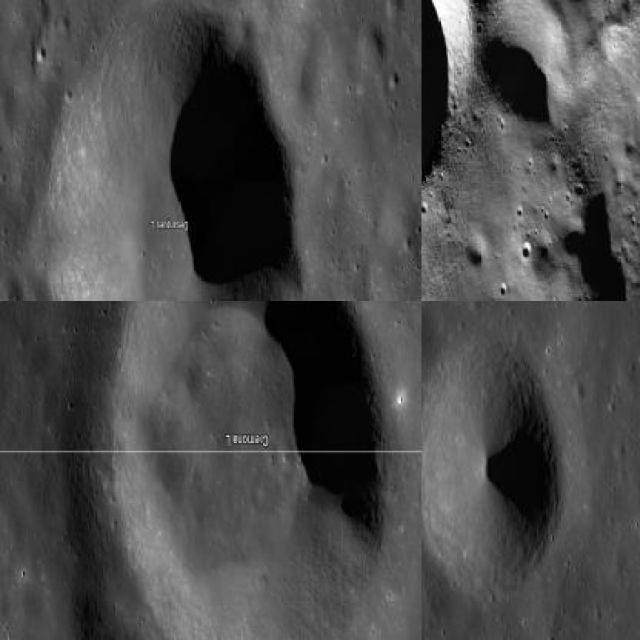crater: (100, 300, 385, 638), (43, 0, 300, 298), (422, 337, 562, 597), (474, 0, 568, 131)
